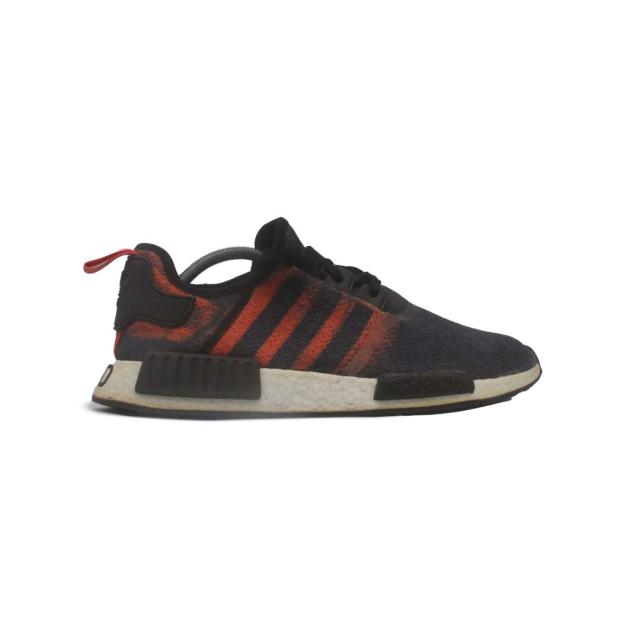heel: (74, 206, 154, 358)
midsole: (90, 351, 543, 425)
uppersole: (160, 233, 542, 375)
